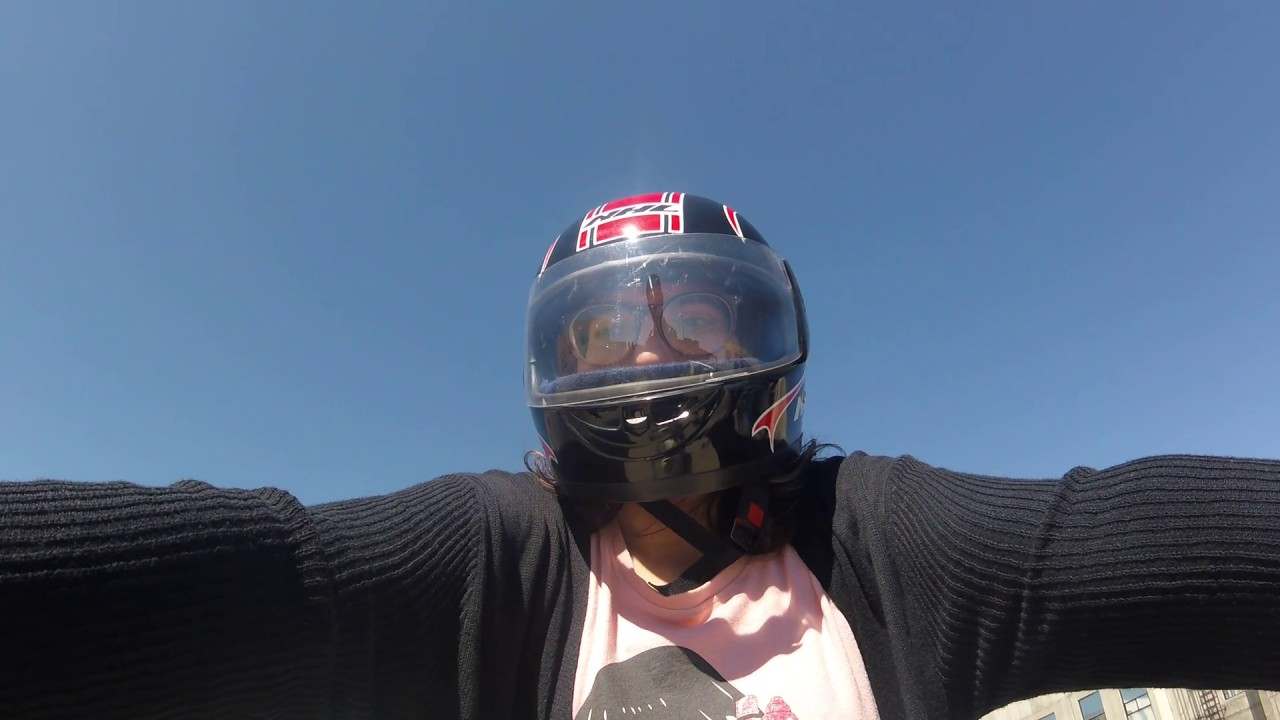With Helmet: (510, 175, 824, 471)
